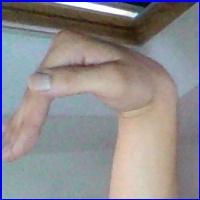del: (1, 27, 173, 171)
